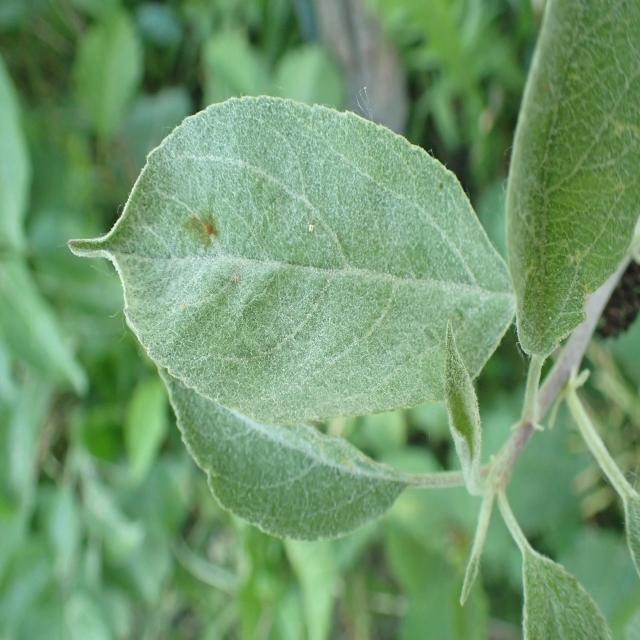Powdery_mildew: (100, 65, 508, 439), (510, 0, 638, 399), (157, 356, 411, 555), (430, 313, 498, 520), (509, 526, 613, 640), (602, 452, 640, 597)
